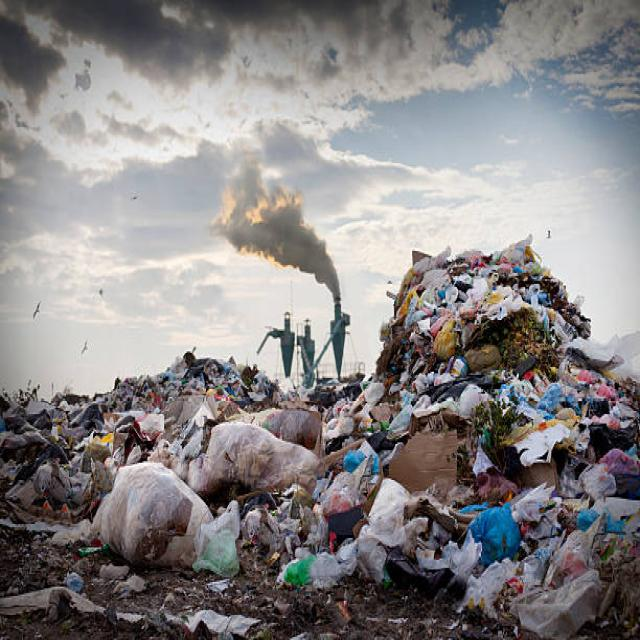plastic: (80, 381, 584, 631)
